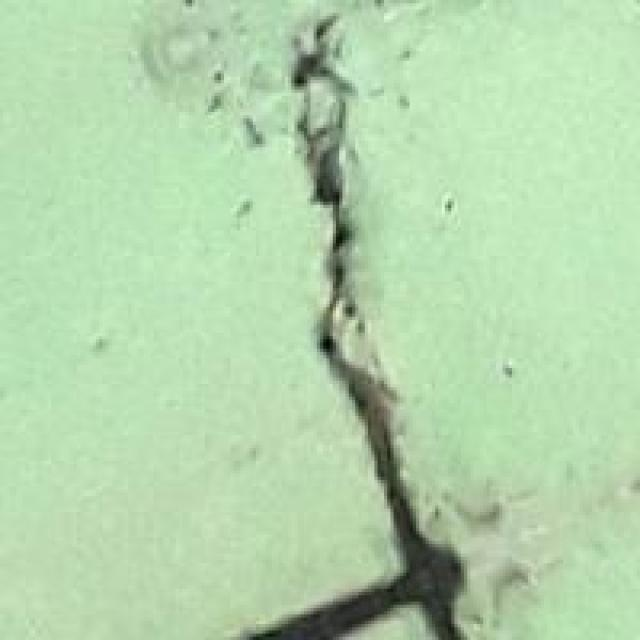Crack: (236, 0, 489, 637)
